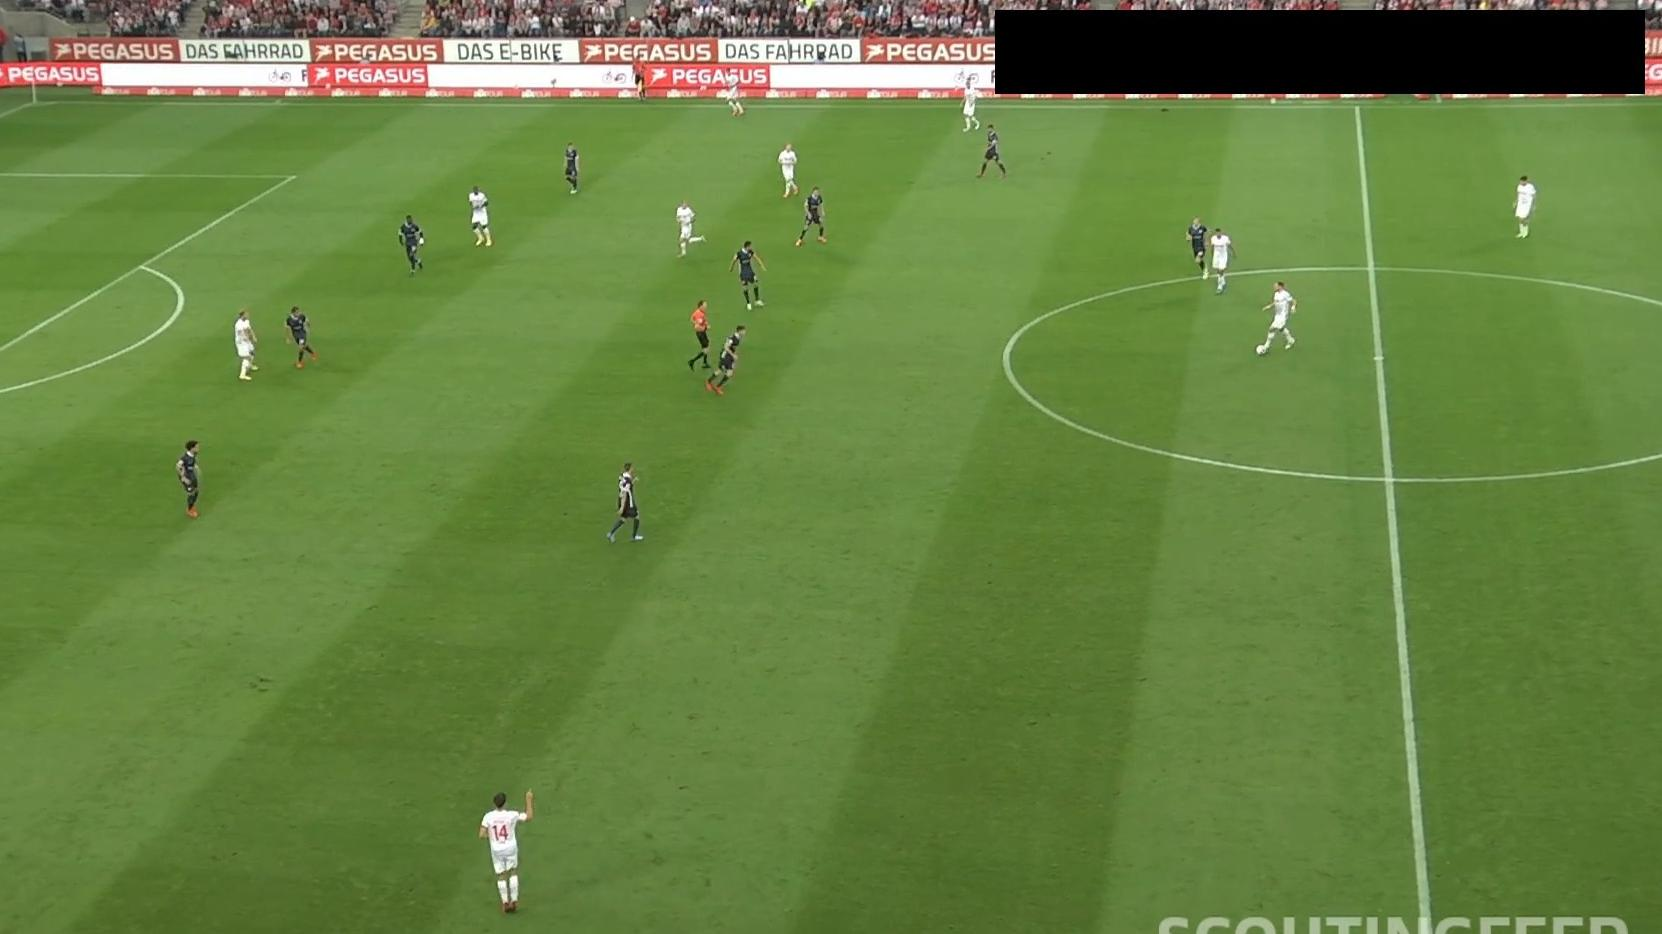ball: (1254, 344, 1267, 357)
